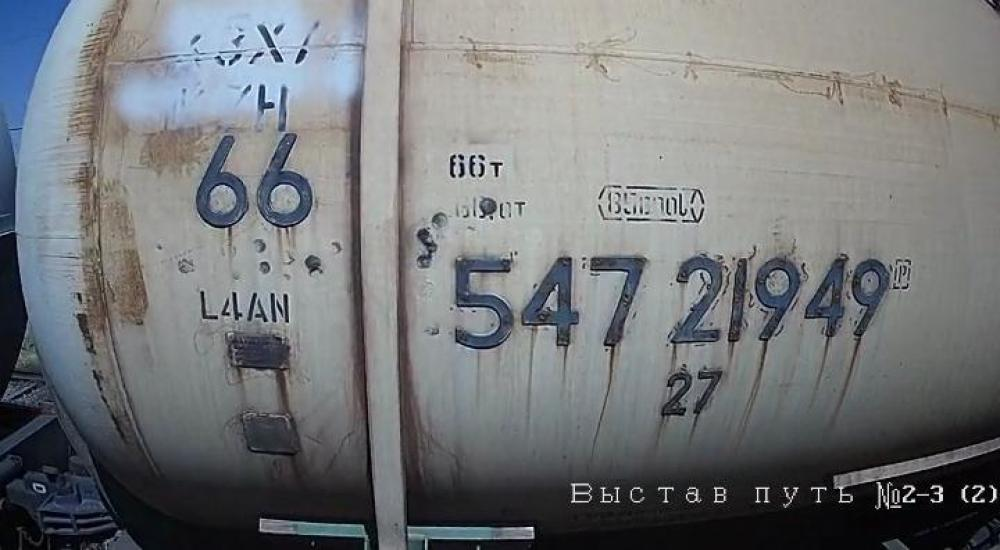Wagon-number: (451, 250, 896, 354)
